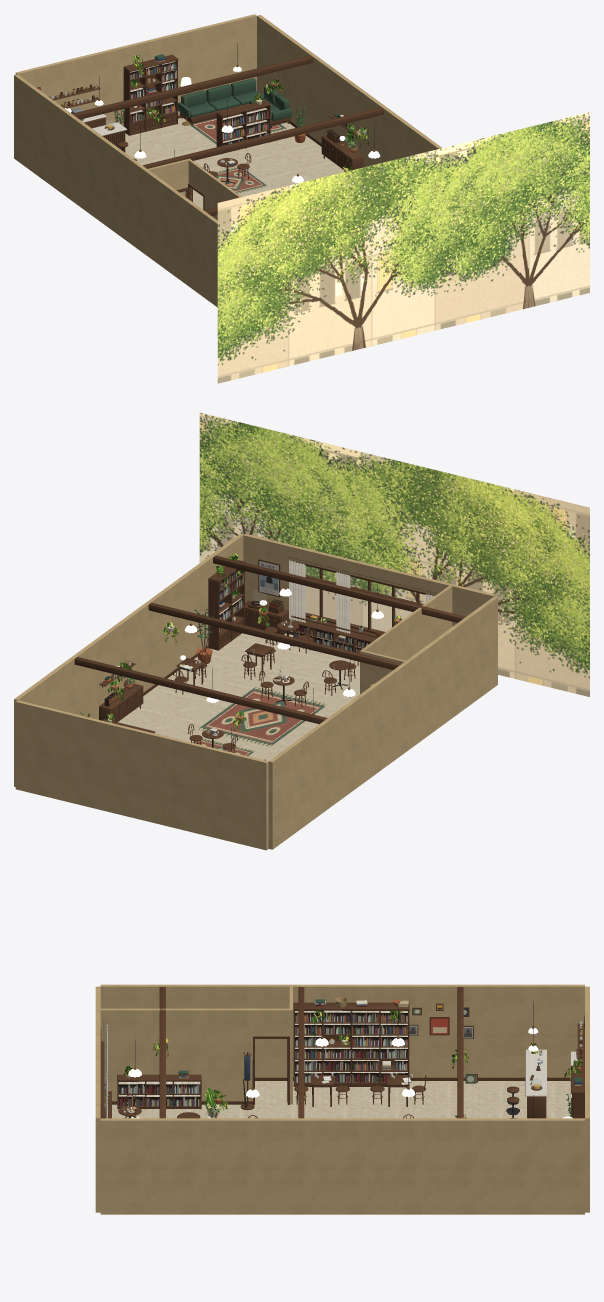
Rendered from mokuyobi.glb.
3 renders of one model, top to bottom at view 1: azimuth 30°, elevation 25°; view 2: azimuth 150°, elevation 25°; view 3: azimuth 270°, elevation 25°, orthographic. The views are drawn at different scales.
Parts seen in each view (by area): view 1: WALL_front_VIEW_mok_window_view, WALL_left_mok_wall, WALL_back_mok_wall, WALL_right_mok_wall, mok_walnut, mok_floor, mok_vc_fabric, mok_books, WALL_front_mok_wall, mok_print, mok_vcg, mok_pothos (+1 smaller); view 2: WALL_front_VIEW_mok_window_view, WALL_back_mok_wall, WALL_left_mok_wall, mok_walnut, mok_floor, WALL_right_mok_wall, WALL_front_mok_wall, mok_print, WALL_front_mok_glass, WALL_front_mok_walnut, WALL_front_mok_vc, mok_books (+3 smaller); view 3: WALL_right_mok_wall, WALL_left_mok_wall, WALL_front_mok_wall, mok_floor, mok_walnut, mok_books, mok_vcg, mok_pothos, WALL_back_mok_wall, WALL_front_mok_walnut, WALL_left_mok_walnut, mok_vc (+2 smaller).
Part boxes in pixels (box(x1,y1,x2,y2)): WALL_front_VIEW_mok_window_view: box(217, 112, 589, 383); WALL_left_mok_wall: box(14, 74, 217, 307); WALL_back_mok_wall: box(15, 14, 256, 125); WALL_right_mok_wall: box(257, 15, 441, 166); mok_walnut: box(72, 54, 383, 215); mok_floor: box(125, 118, 343, 209); mok_vc_fabric: box(178, 78, 291, 120); mok_books: box(130, 61, 346, 145); WALL_front_mok_wall: box(148, 158, 241, 219); mok_print: box(94, 118, 286, 193); mok_vcg: box(48, 54, 366, 171); mok_pothos: box(131, 54, 369, 171); WALL_front_VIEW_mok_window_view: box(199, 412, 589, 696); WALL_back_mok_wall: box(15, 700, 268, 850); WALL_left_mok_wall: box(268, 596, 497, 849); mok_walnut: box(74, 555, 465, 752); mok_floor: box(118, 633, 359, 849); WALL_right_mok_wall: box(14, 534, 243, 786); WALL_front_mok_wall: box(243, 533, 496, 694); mok_print: box(192, 599, 327, 756); WALL_front_mok_glass: box(306, 566, 424, 631); WALL_front_mok_walnut: box(258, 559, 435, 637); WALL_front_mok_vc: box(289, 560, 434, 633); mok_books: box(112, 569, 370, 678); WALL_right_mok_wall: box(100, 1118, 584, 1214); WALL_left_mok_wall: box(100, 984, 584, 1077); WALL_front_mok_wall: box(95, 986, 292, 1212); mok_floor: box(112, 1081, 570, 1118); mok_walnut: box(108, 987, 584, 1118); mok_books: box(118, 1010, 407, 1106); mok_vcg: box(104, 999, 582, 1118); mok_pothos: box(104, 1006, 582, 1118); WALL_back_mok_wall: box(585, 986, 589, 1212); WALL_front_mok_walnut: box(100, 1029, 289, 1118); WALL_left_mok_walnut: box(255, 1003, 570, 1080); mok_vc: box(123, 997, 577, 1116).
Bounding box in the file's own units: 14 × 6.5 × 16.64.
19 materials, 17 textured.
